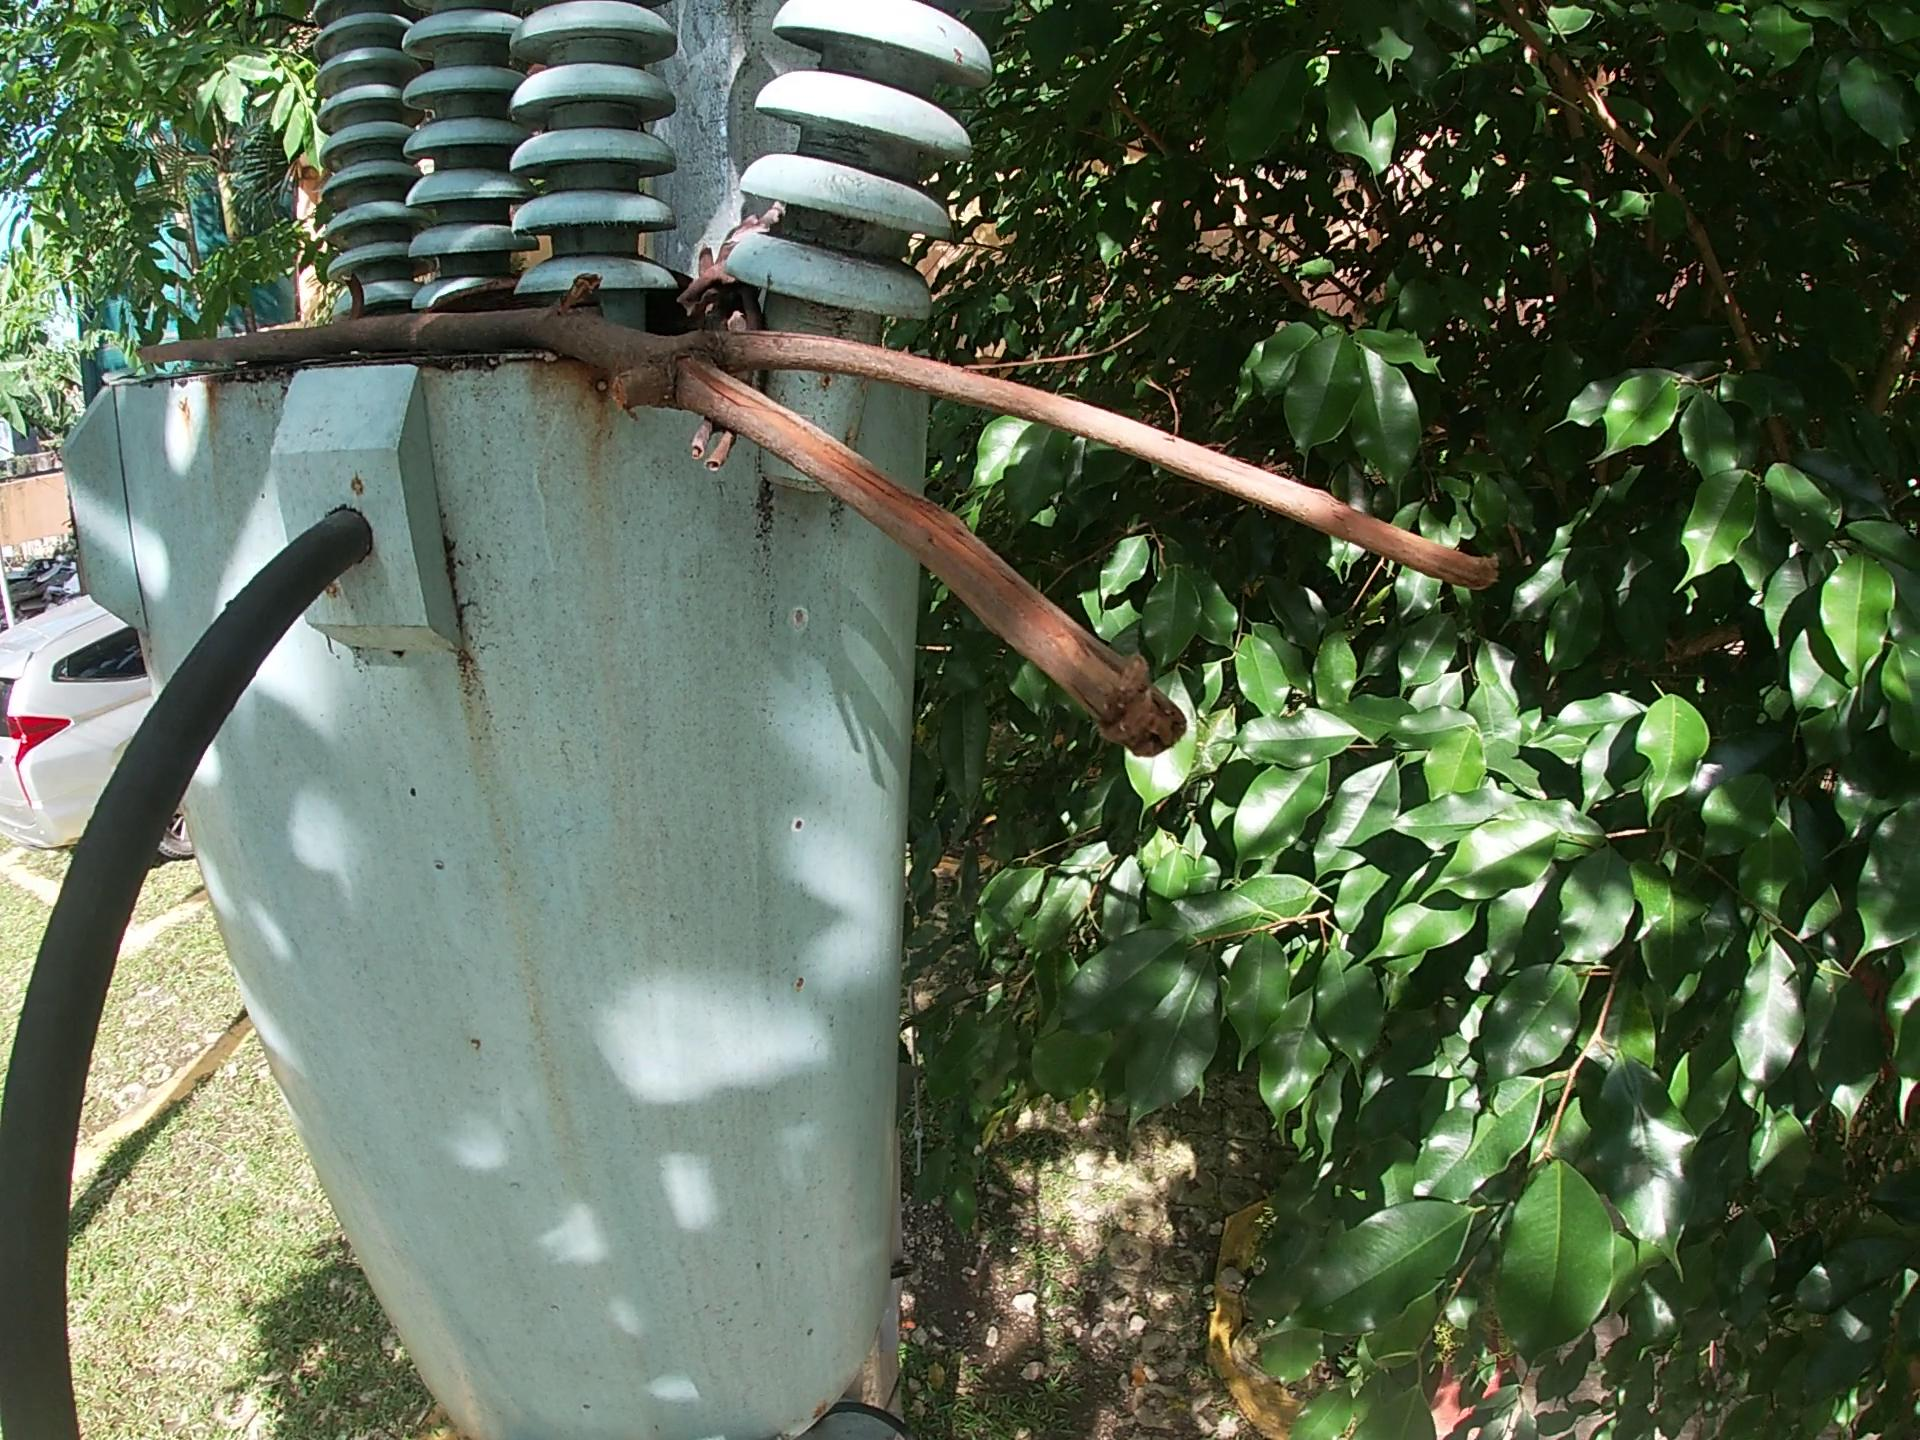mahogany fruit: (417, 269, 526, 318), (655, 268, 697, 336), (336, 278, 379, 306)
tree branch: (132, 271, 1609, 784), (674, 225, 751, 495)
